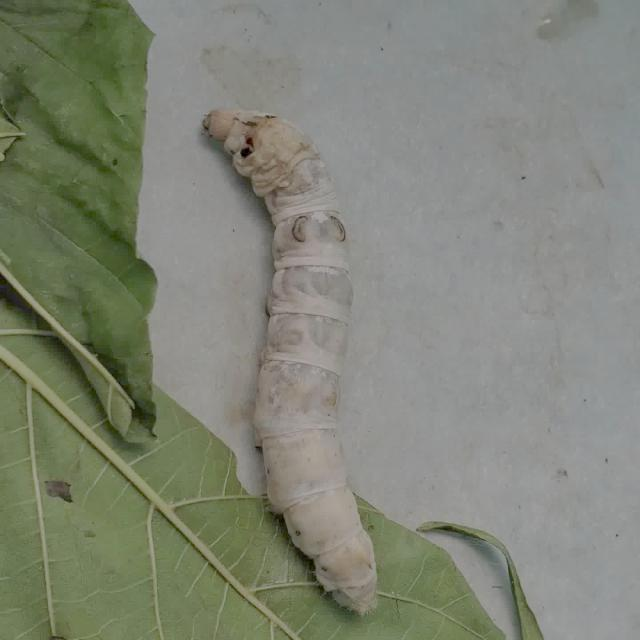Grasserie: (190, 94, 422, 616)
